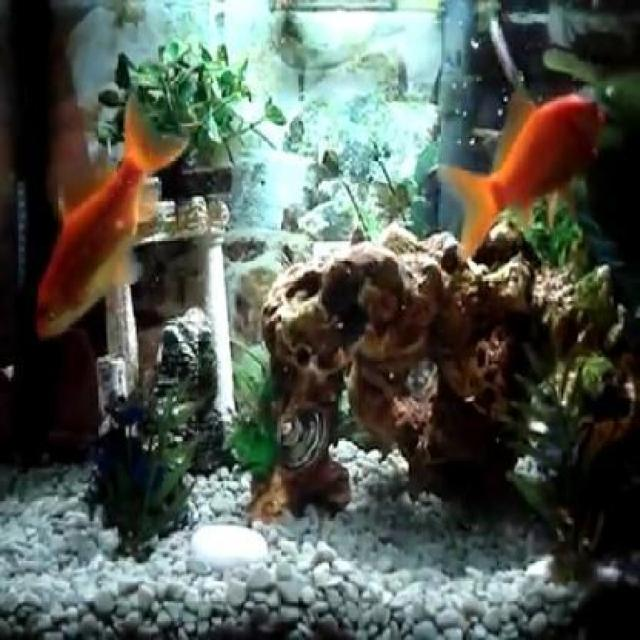GoldFish: (40, 110, 188, 336), (432, 89, 603, 262)
